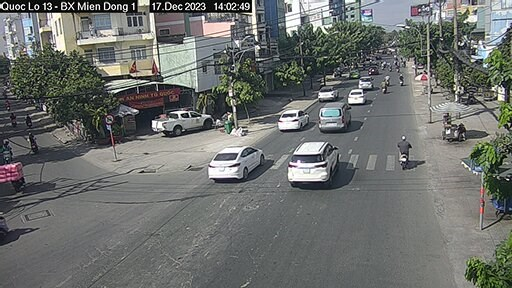car: (284, 139, 343, 188), (206, 143, 266, 183), (150, 107, 215, 135), (315, 102, 355, 132), (277, 107, 310, 133), (345, 87, 370, 108), (315, 85, 342, 103), (358, 77, 374, 89)
motorbike: (395, 135, 415, 172)
